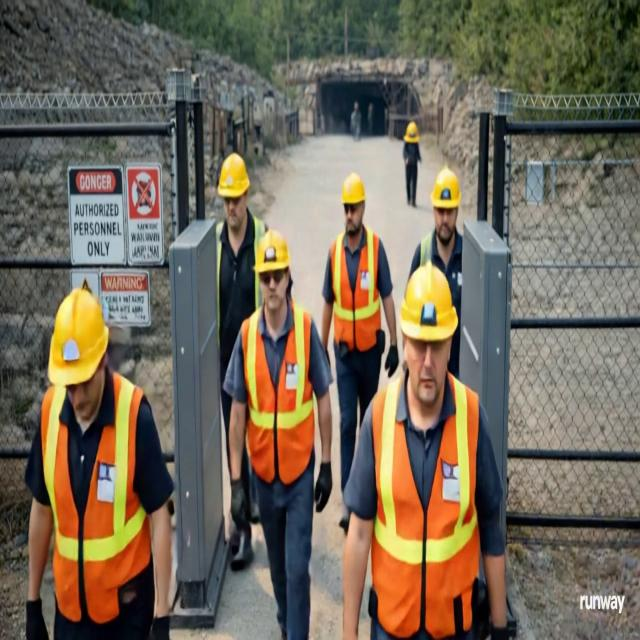Vest: (372, 375, 479, 639), (41, 373, 150, 623), (241, 300, 314, 484), (331, 228, 380, 351)
Worker: (343, 263, 507, 639), (25, 288, 173, 639), (224, 229, 332, 639), (321, 173, 398, 492), (216, 152, 266, 462), (409, 167, 462, 317), (403, 121, 421, 207)
helmet: (48, 288, 108, 386), (401, 262, 458, 341), (255, 229, 289, 272), (218, 152, 249, 198), (431, 167, 460, 208), (342, 173, 365, 204), (404, 121, 418, 143)
